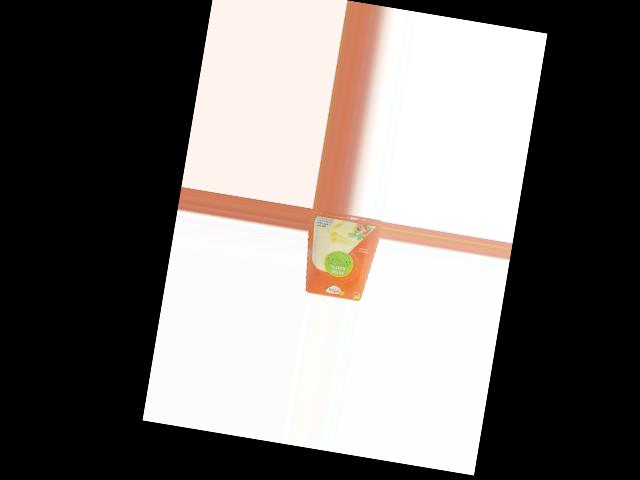cheese: (300, 208, 383, 302)
